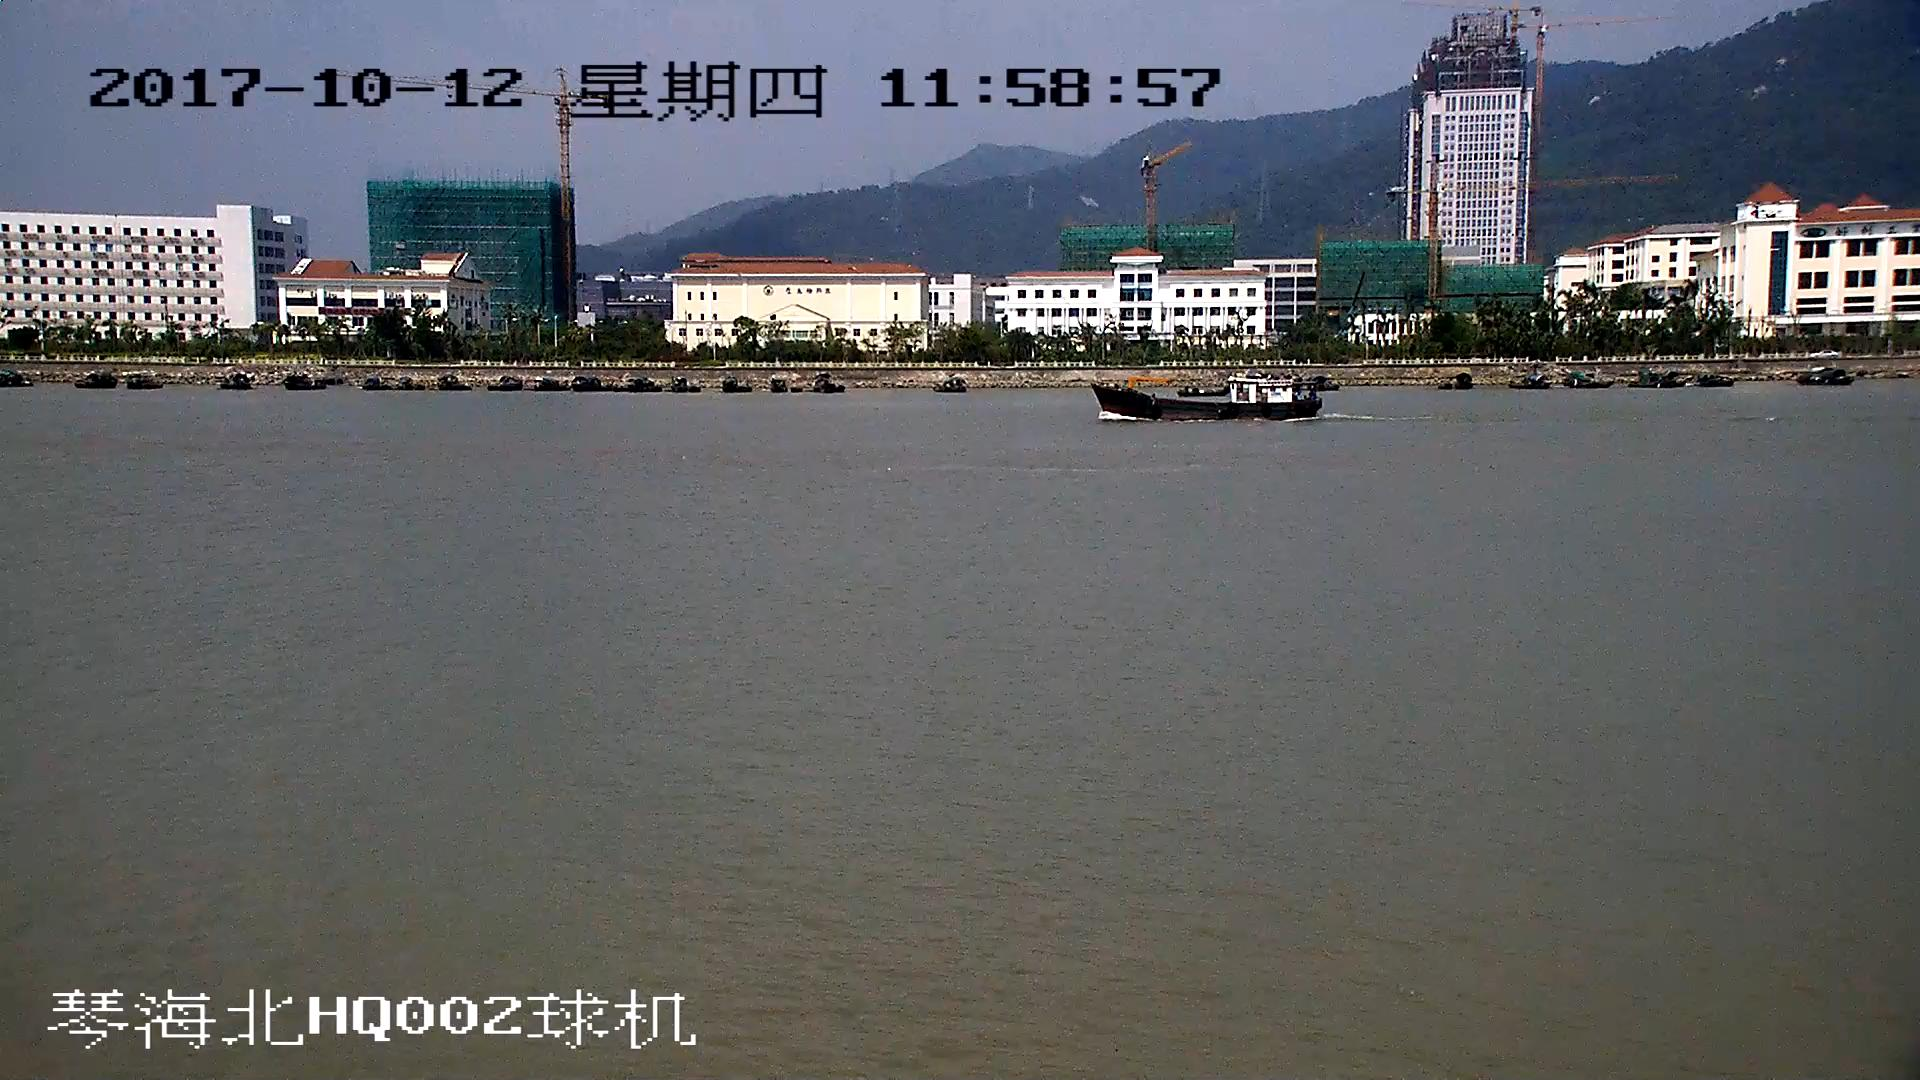fishing boat: (1095, 379, 1318, 421)
